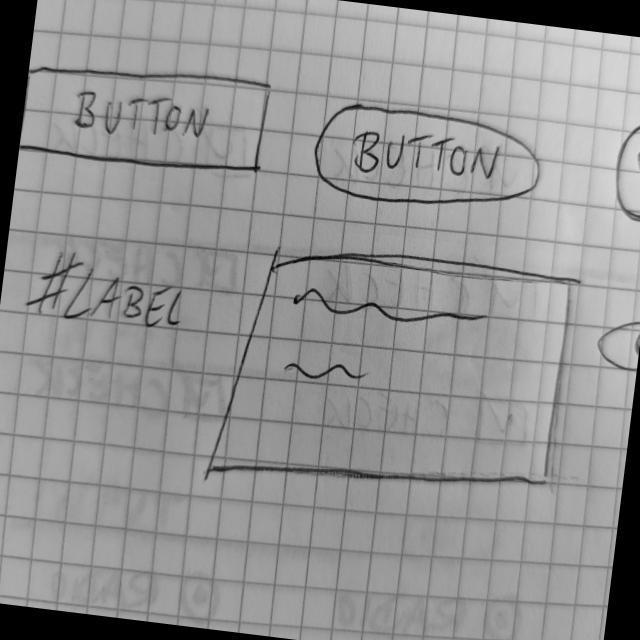button: (19, 47, 279, 187), (305, 93, 550, 225)
icon-button: (607, 109, 640, 229)
label: (23, 242, 197, 341)
textarea: (203, 229, 580, 522)
toggle: (592, 311, 640, 373)
